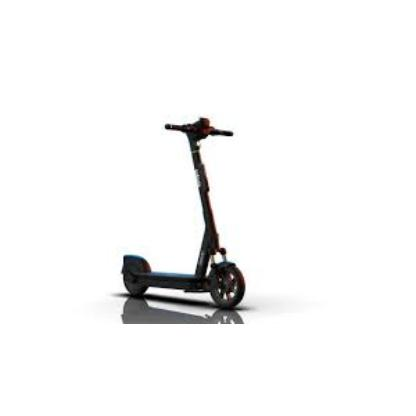bike: (121, 117, 247, 311)
